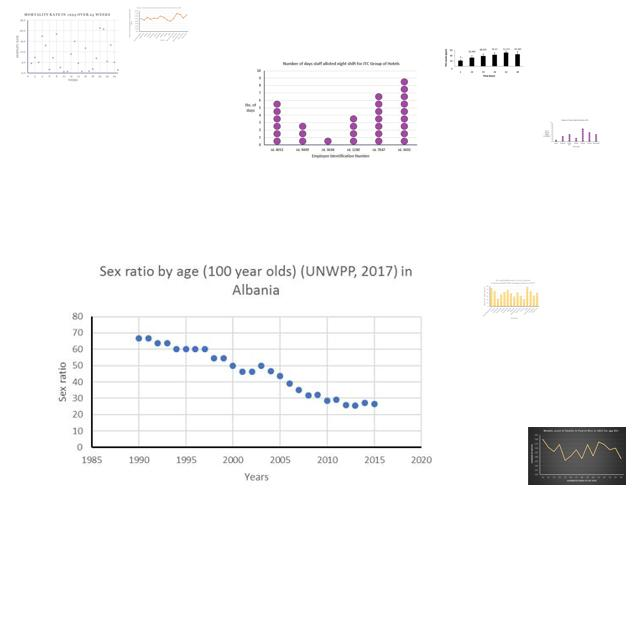Graph: (49, 258, 440, 490), (239, 59, 421, 162), (14, 12, 121, 83), (528, 427, 626, 485), (444, 45, 524, 78), (482, 278, 540, 320), (128, 6, 189, 42), (543, 119, 600, 148)
